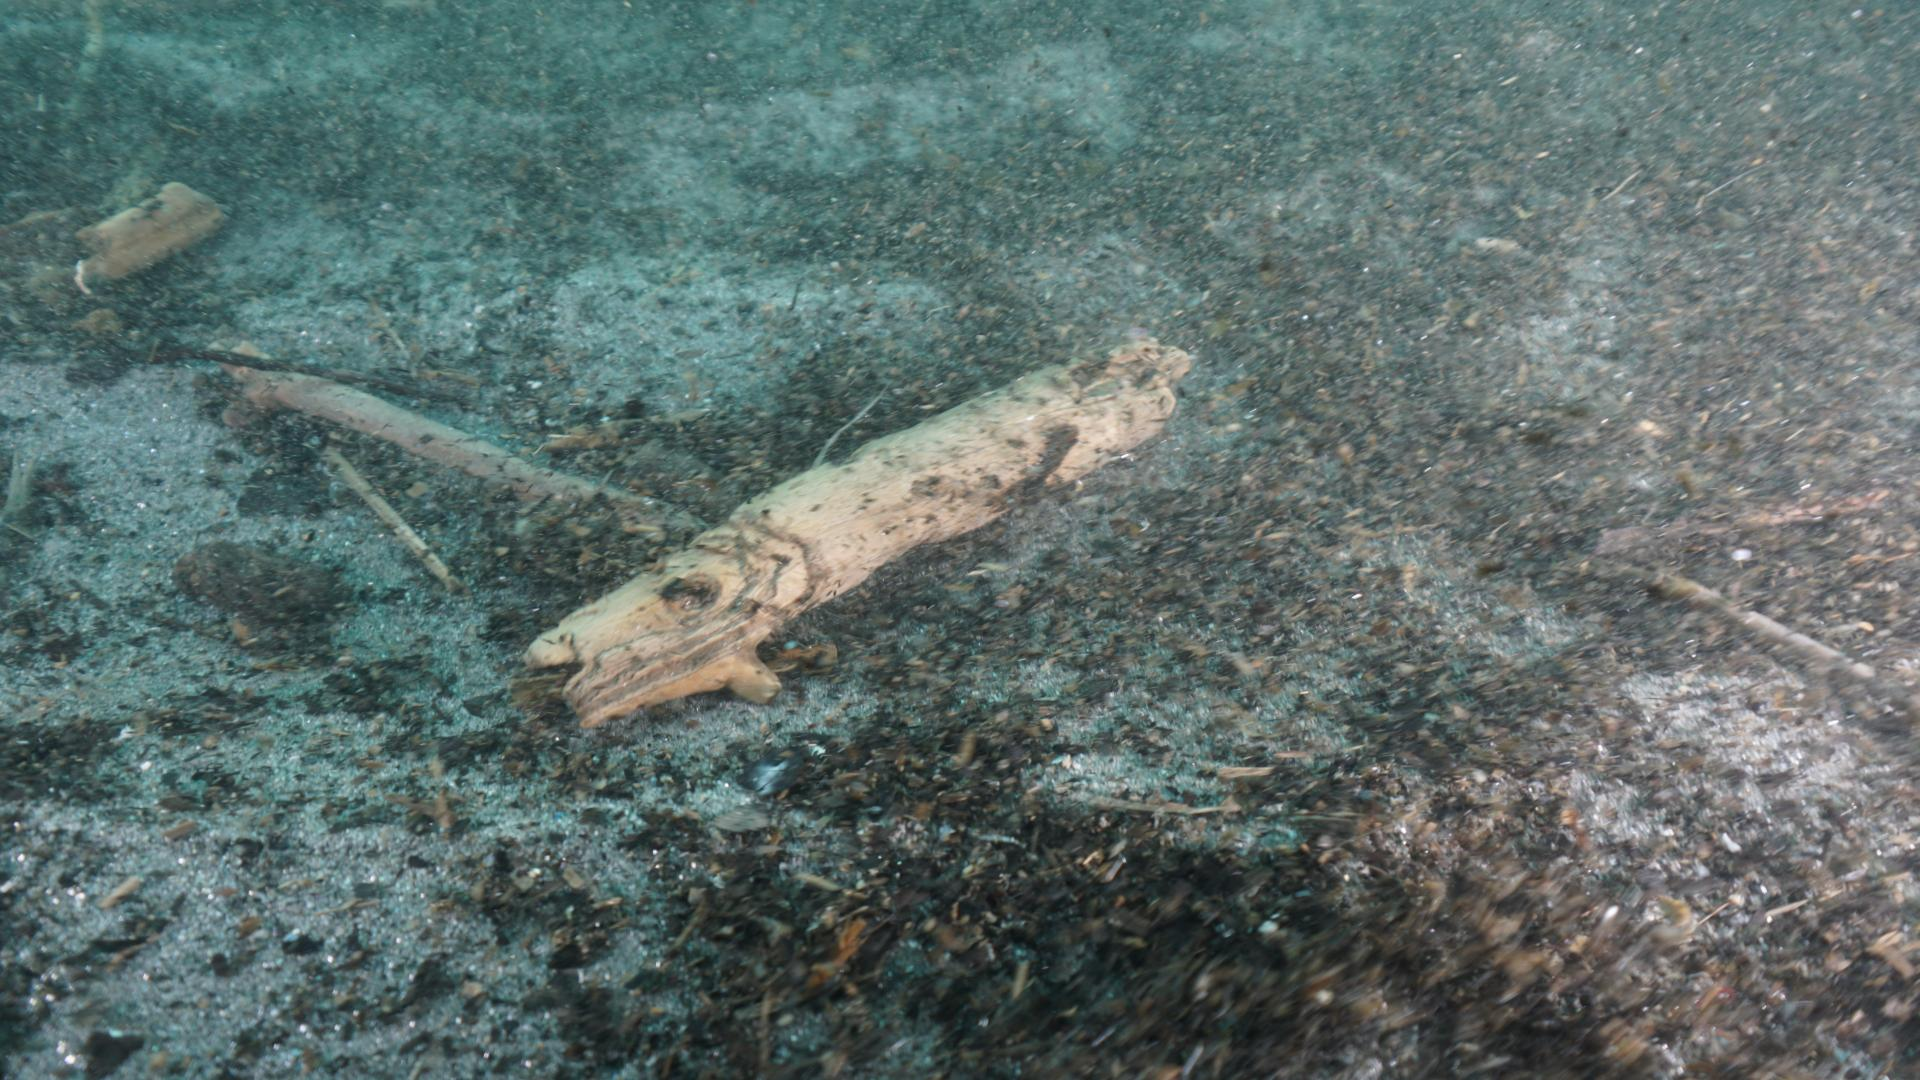wood: (522, 335, 1185, 731), (225, 361, 698, 551), (73, 183, 225, 295)
